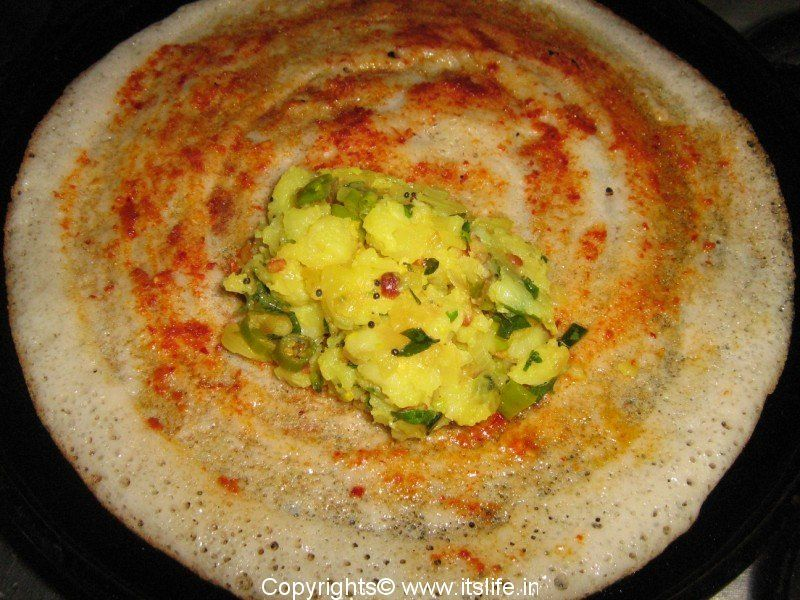dosa: (1, 7, 793, 579)
